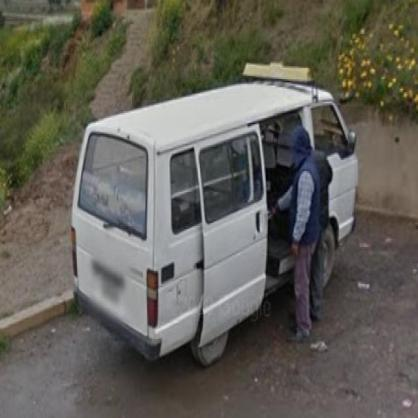car: (72, 84, 364, 367)
